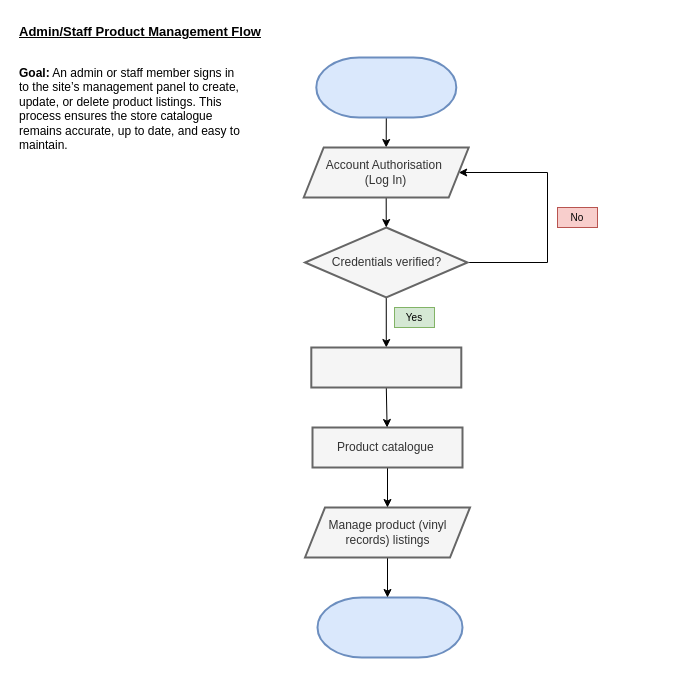
This 690x675 diagram has some shape labels left out. The shapes that lost their labels are listed below. From the top down, each one's centre as x and y in pixels, then its label:
pixel 386 87: Start: Admin navigates to admin login page
pixel 386 367: Site owner section of site
pixel 389 627: End: admin updates catalogue successfully
